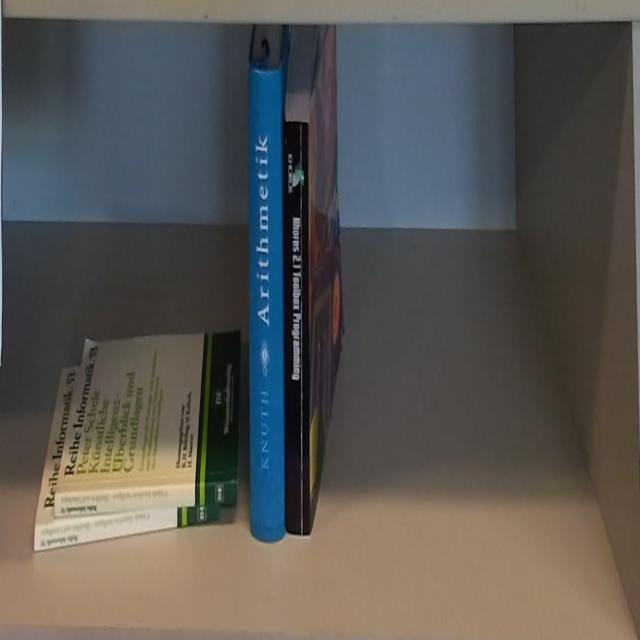Book Spine: (248, 65, 284, 545), (282, 118, 311, 535), (33, 504, 223, 551), (54, 482, 239, 520)
